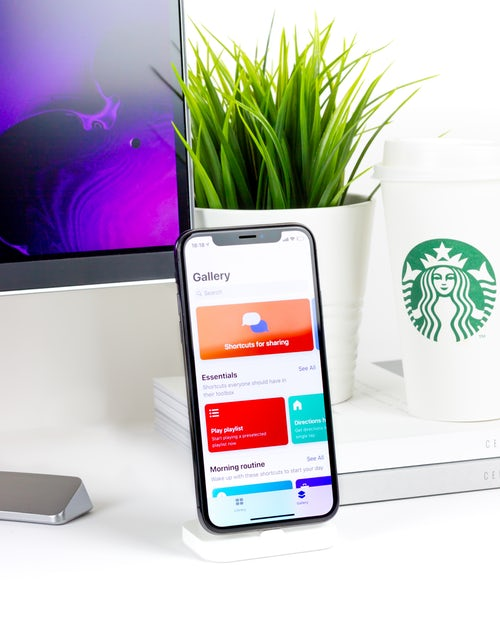phone: (166, 227, 347, 526)
